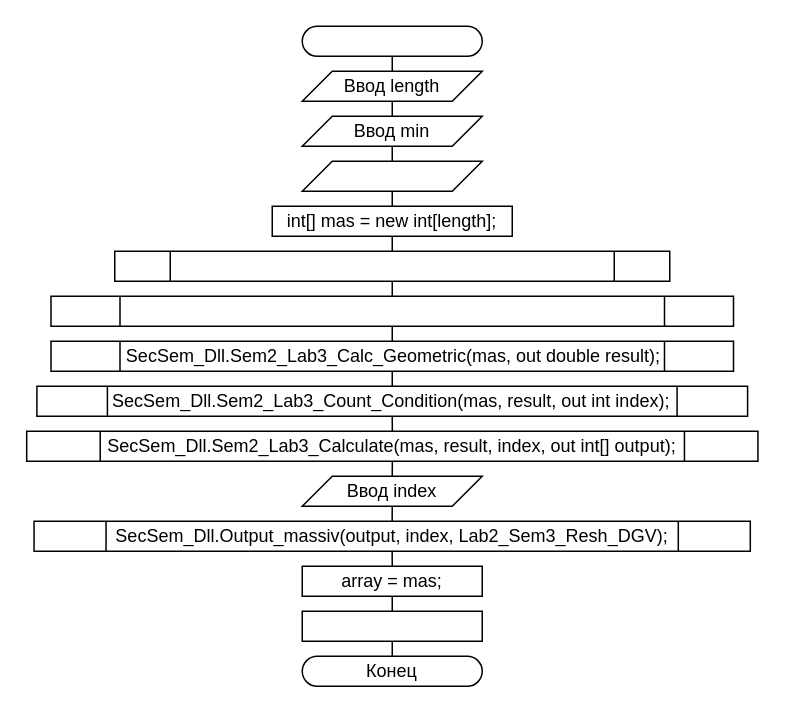
The diagram is 785 pixels wide and 713 high, and some of its shapes have lost their labels. The shapes that lost their labels are listed below. From the top down, each one's centre as x and y in pixels, then its label:
the point at 391,40: Начало
the point at 391,175: Ввод max
the point at 391,265: SecSem_Dll.Enter_massiv(mas, length, min, max);
the point at 392,310: SecSem_Dll.Output_massiv(mas, length, Lab2_Sem3_Main_DGV);
the point at 391,625: array2 = output;
